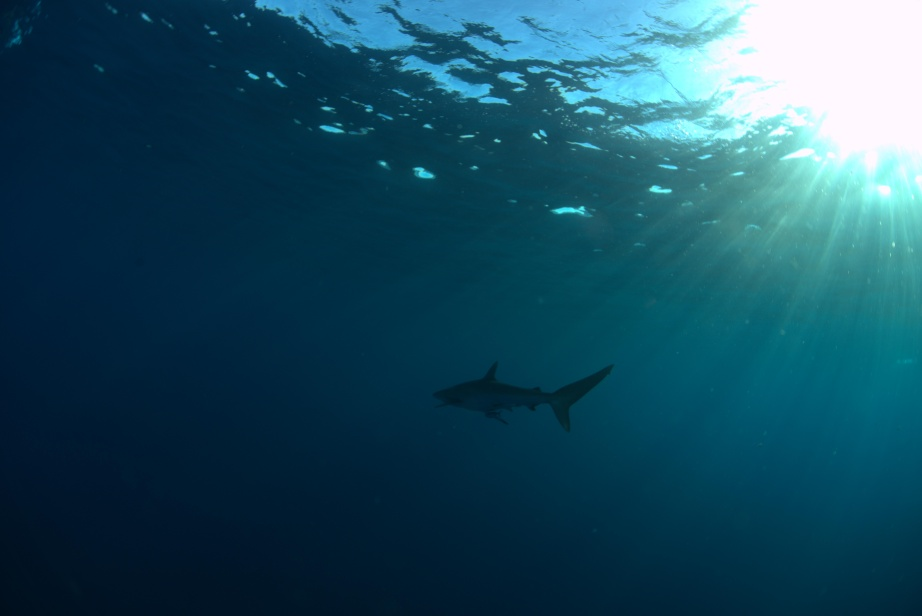Sedoso: (409, 344, 633, 447)
